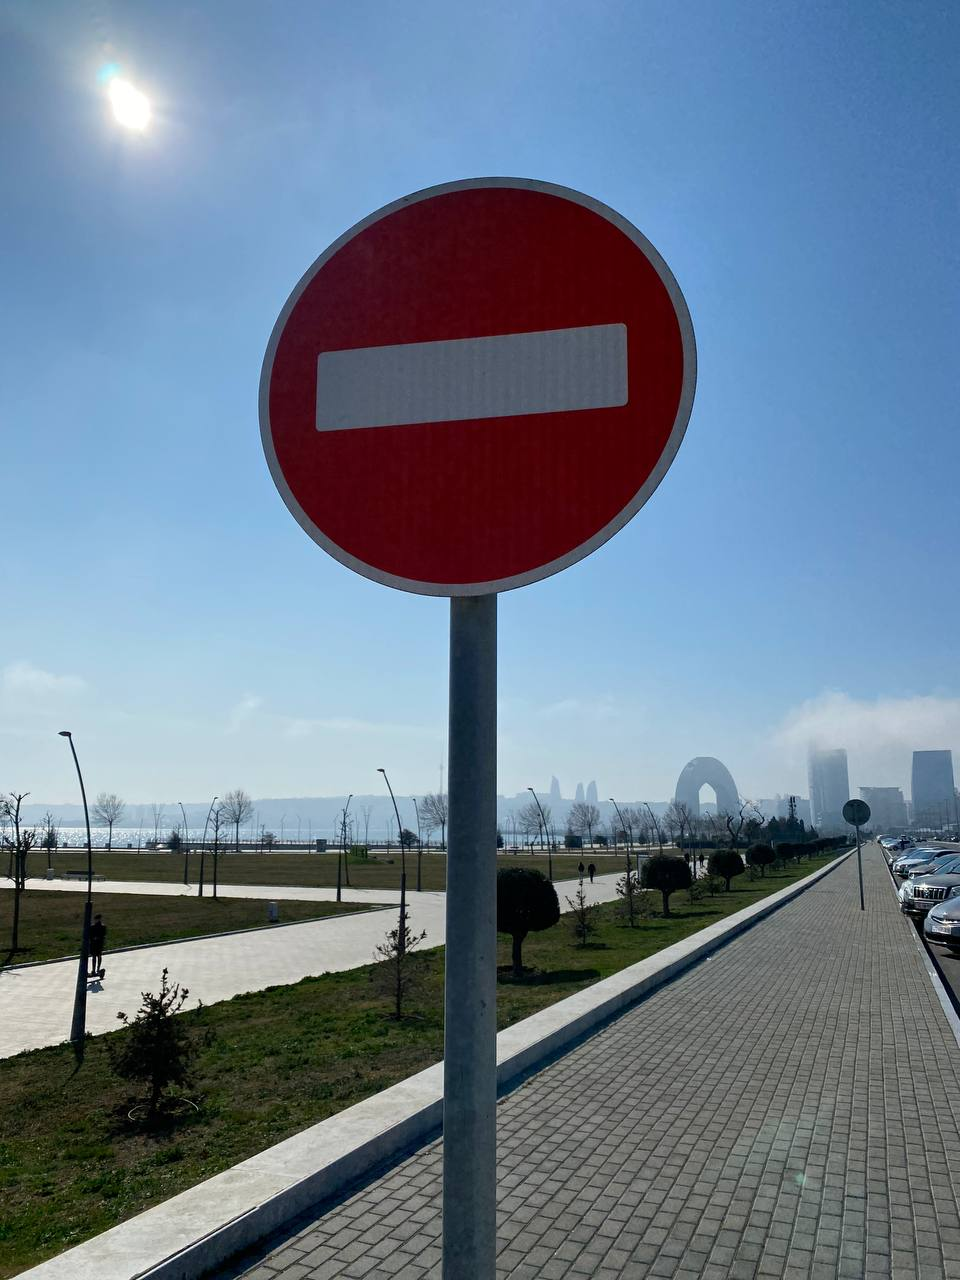No Entry: (256, 175, 701, 599)
